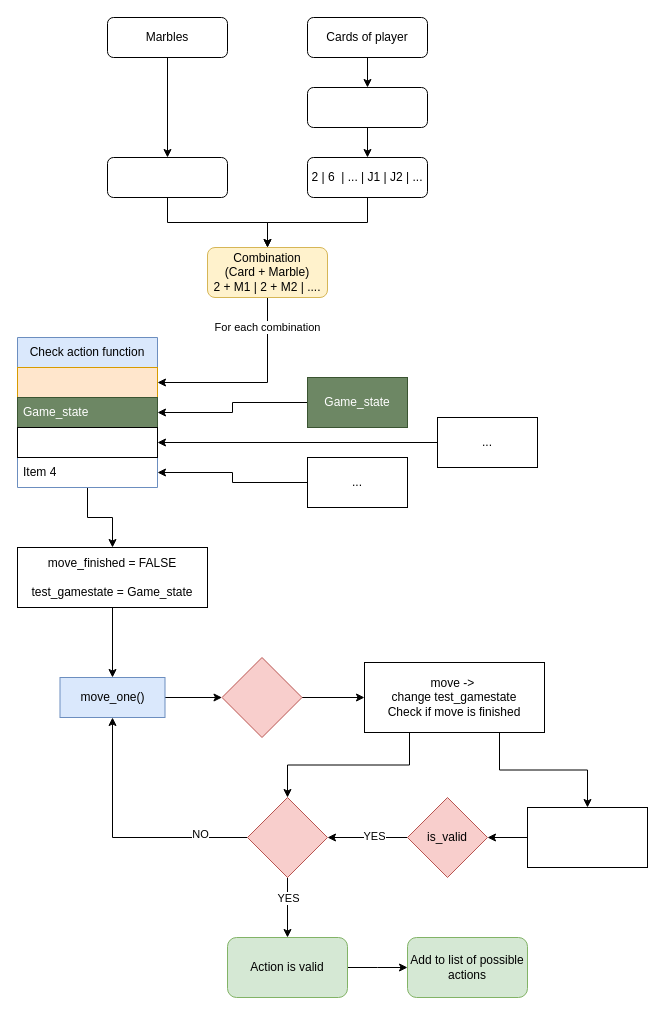
This 665x1015 diagram has some shape labels left out. The shapes that lost their labels are listed below. From the top down, each one's centre as x and y in pixels, then its label:
At (367,107): "2 | 6 | ... | J".
At (167,177): "M1 | M2 | M3 | M4".
At (87,382): "Card + Marble".
At (87,442): "Item 3".
At (261,697): "is move possible".
At (287,837): "move_finished".
At (587,837): "(changed) test_gamestate".
